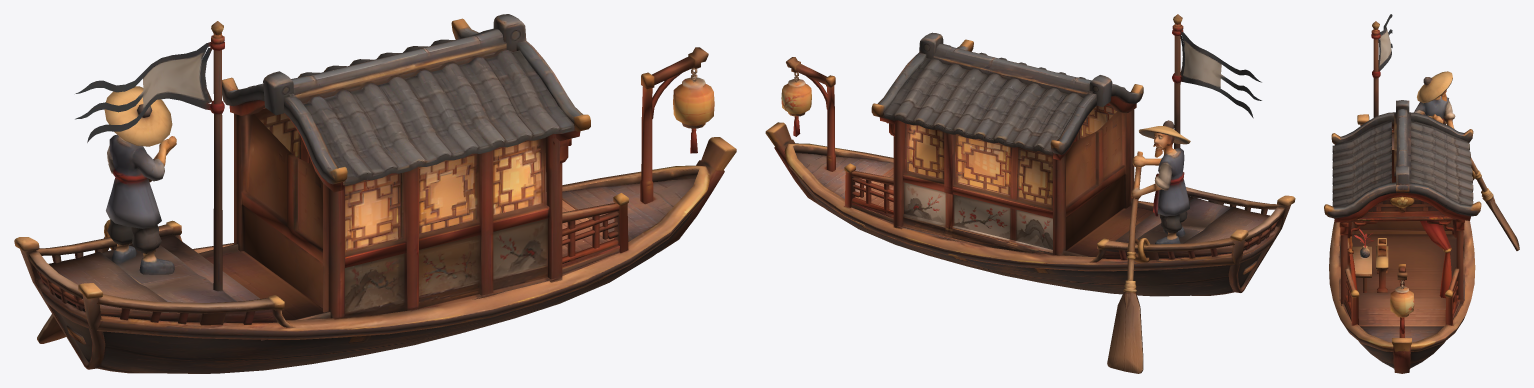
File: boat_codex.glb
3 views of the same model, side by side, from view 1: azimuth 30°, elevation 25°; view 2: azimuth 150°, elevation 25°; view 3: azimuth 270°, elevation 25° (orthographic). The views are drawn at different scales.
Parts seen in each view (by area): view 1: tripo_node_4fe051e2-17e1-449b-a704-205d6e5dc435; view 2: tripo_node_4fe051e2-17e1-449b-a704-205d6e5dc435; view 3: tripo_node_4fe051e2-17e1-449b-a704-205d6e5dc435.
Boxes of the visible parts, x1,y1,x2,y2 form: tripo_node_4fe051e2-17e1-449b-a704-205d6e5dc435: (14, 14, 736, 373); tripo_node_4fe051e2-17e1-449b-a704-205d6e5dc435: (765, 14, 1295, 373); tripo_node_4fe051e2-17e1-449b-a704-205d6e5dc435: (1324, 14, 1519, 373).
Bounding box in the file's own units: 0.9995 × 0.5532 × 0.4116.
Materials: 1 (1 with a texture image).
